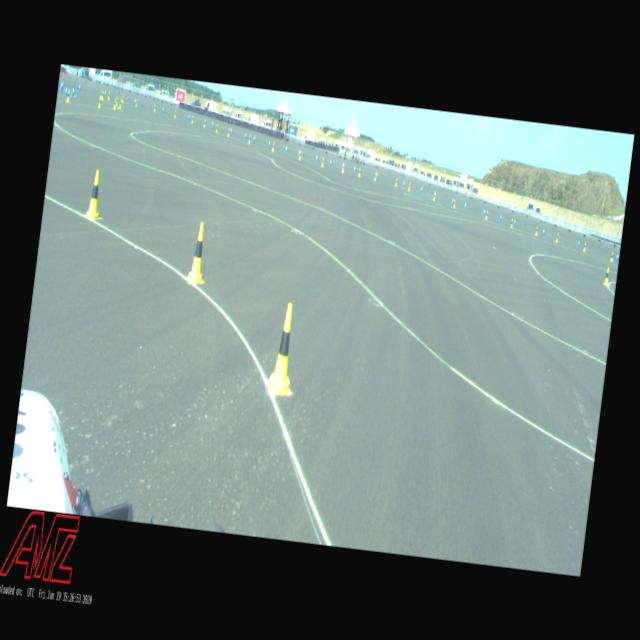blue_cone: (462, 201, 467, 210), (70, 85, 74, 96), (60, 80, 64, 90), (64, 86, 68, 96), (498, 212, 502, 222), (576, 238, 580, 248), (615, 252, 619, 262), (266, 139, 270, 148), (352, 164, 356, 173), (374, 170, 378, 179), (402, 178, 406, 187), (512, 217, 516, 226), (541, 226, 545, 235), (314, 154, 318, 162), (328, 157, 332, 165), (252, 134, 255, 143), (284, 144, 287, 153), (482, 207, 485, 216), (133, 97, 136, 105), (210, 120, 213, 128), (419, 185, 422, 193), (451, 197, 454, 204), (78, 83, 80, 92), (104, 89, 106, 98), (434, 189, 436, 198), (162, 105, 164, 113), (188, 113, 190, 121), (230, 126, 232, 134), (298, 148, 300, 156), (244, 132, 246, 139)
yellow_cone: (266, 302, 300, 394), (185, 221, 211, 284), (84, 168, 106, 220), (602, 266, 610, 286), (65, 88, 71, 102), (406, 182, 411, 191), (393, 177, 398, 186), (320, 156, 324, 167), (112, 98, 116, 109), (610, 251, 614, 261), (582, 242, 586, 252), (554, 232, 558, 242), (509, 218, 513, 228), (452, 198, 456, 208), (373, 171, 377, 181), (357, 167, 361, 177), (298, 150, 302, 160), (271, 142, 275, 152), (247, 134, 251, 144), (534, 226, 538, 235), (340, 163, 344, 172), (214, 124, 218, 133), (107, 91, 111, 100), (100, 91, 104, 100), (98, 98, 101, 109), (484, 210, 488, 218), (226, 128, 230, 136), (134, 98, 138, 106), (119, 98, 122, 108), (115, 96, 118, 106), (121, 95, 124, 104), (432, 192, 435, 200), (202, 120, 205, 128), (190, 115, 193, 123), (153, 104, 156, 112), (100, 89, 102, 99), (174, 110, 176, 118)
